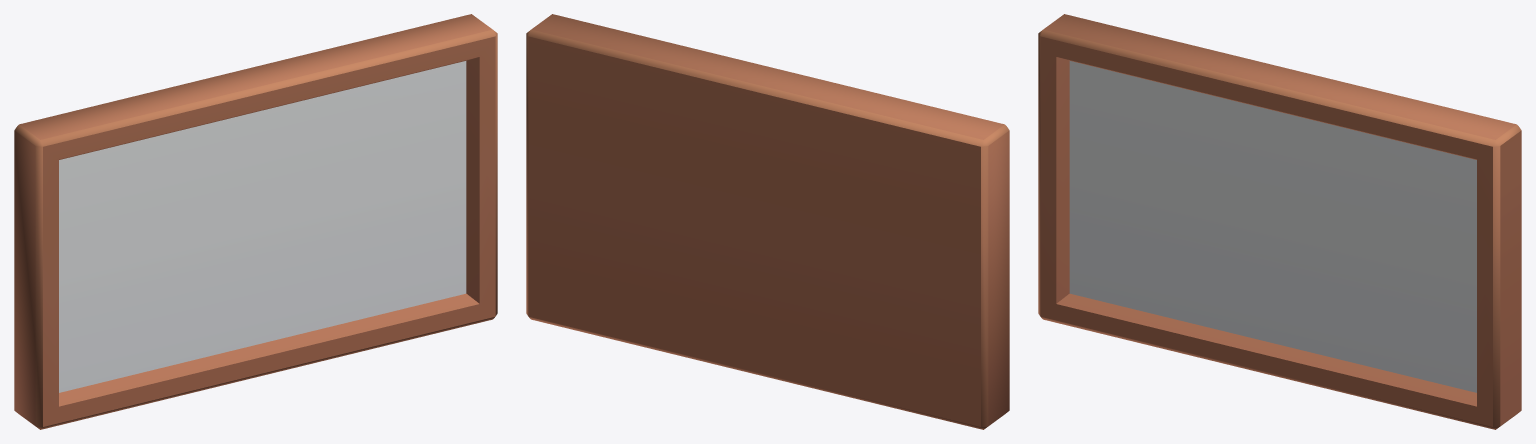
File: kkf.pictureframe_large_b.glb
The picture shows the model from 3 angles, left to right: view 1: azimuth 30°, elevation 25°; view 2: azimuth 150°, elevation 25°; view 3: azimuth 330°, elevation 25°; orthographic projection.
Parts seen in each view (by area): view 1: pictureframe_large_B; view 2: pictureframe_large_B; view 3: pictureframe_large_B.
Part boxes in pixels (x1,y1,x2,y2): pictureframe_large_B: [14, 14, 497, 429]; pictureframe_large_B: [526, 14, 1009, 429]; pictureframe_large_B: [1038, 14, 1521, 429].
Bounding box in the file's own units: 0.7154 × 0.4293 × 0.0715.
1 material, 1 textured.
